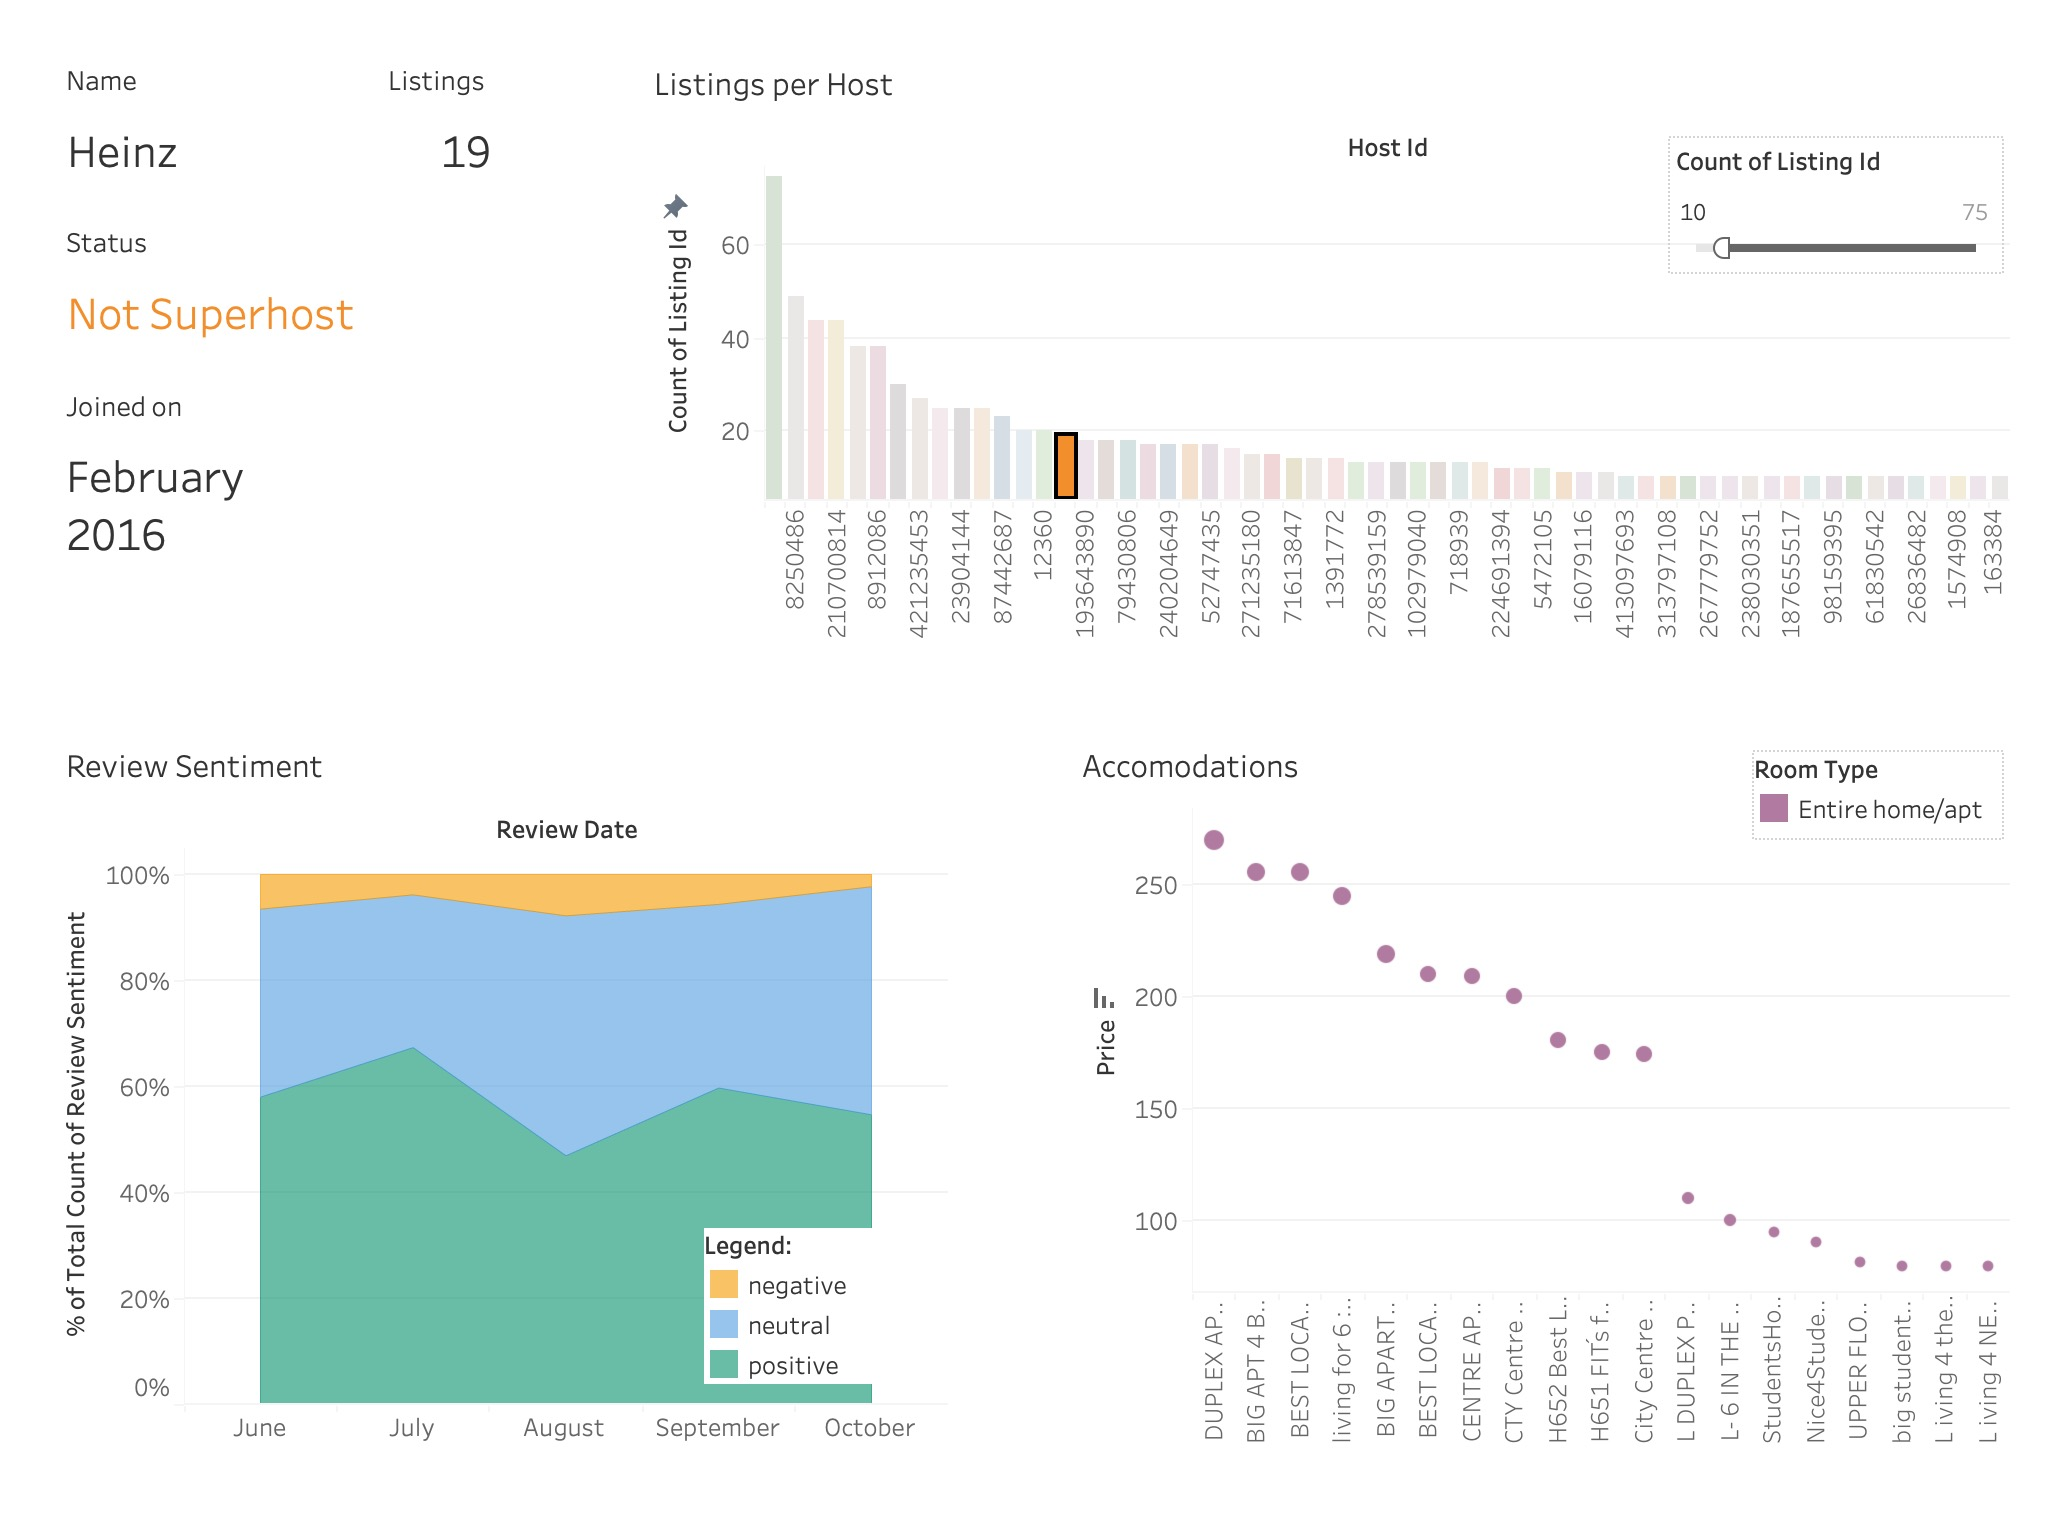

Layout of this report page (visuals, bound fields, positions):
{"tool":"tableau","page":{"name":"Host details","canvas":[1000,800],"ordinal":0},"visuals":[{"type":"blank","box":[8,8,984,47.9]},{"type":"worksheet","title":"Name","mark":"Automatic","box":[8,55.9,161,81.5]},{"type":"worksheet","title":"Nr. u Listings this host","mark":"Automatic","box":[169,55.9,81,81.5]},{"type":"blank","box":[250,55.9,52,310.7]},{"type":"worksheet","title":"Large hosts","mark":"Automatic","rows":["LISTING_ID"],"cols":["HOST_ID"],"box":[302,55.9,690,310.7]},{"type":"filter","title":"Large hosts","param":"[federated.0fy481t14suxj81aj3ia71t3bvcg].[cnt:LISTING_ID:qk]","box":[817,101,168,69]},{"type":"worksheet","title":"Superhost ?","mark":"Automatic","box":[8,137.4,242,81.5]},{"type":"worksheet","title":"Joined date","mark":"Automatic","box":[8,219,242,147.7]},{"type":"blank","box":[8,366.6,984,30.8]},{"type":"worksheet","title":"Review sent one host (mth) (2)","mark":"Area","cols":["REVIEW_DATE"],"box":[8,397.4,452.6,362.6]},{"type":"blank","box":[460.6,397.4,55.4,362.6]},{"type":"worksheet","title":"Price for host","mark":"Circle","rows":["PRICE"],"cols":["LISTING_NAME"],"box":[516,397.4,476,362.6]},{"type":"legend","title":"Price for host","param":"[federated.0fy481t14suxj81aj3ia71t3bvcg].[none:ROOM_TYPE:nk]","box":[859,408,126,45]},{"type":"legend","title":"Review sent one host (mth) (2)","param":"[federated.0fy481t14suxj81aj3ia71t3bvcg].[none:REVIEW_SENTIMENT:nk]","box":[335,647,140,78]},{"type":"blank","box":[8,760,984,32]}]}

Visuals, with their boxes on the page's 1000x800 design canvas (x1, y1, x2, y2). These are canvas units, not pixel positions in the 2072x1514 screenshot, which may show the page scaled, cropped or inside an application window:
blank: x1=8 y1=8 x2=992 y2=56
"Name" worksheet: x1=8 y1=56 x2=169 y2=137
"Nr. u Listings this host" worksheet: x1=169 y1=56 x2=250 y2=137
blank: x1=250 y1=56 x2=302 y2=367
"Large hosts" worksheet: x1=302 y1=56 x2=992 y2=367
"Large hosts" filter: x1=817 y1=101 x2=985 y2=170
"Superhost ?" worksheet: x1=8 y1=137 x2=250 y2=219
"Joined date" worksheet: x1=8 y1=219 x2=250 y2=367
blank: x1=8 y1=367 x2=992 y2=397
"Review sent one host (mth) (2)" worksheet (Area marks): x1=8 y1=397 x2=461 y2=760
blank: x1=461 y1=397 x2=516 y2=760
"Price for host" worksheet (Circle marks): x1=516 y1=397 x2=992 y2=760
"Price for host" legend: x1=859 y1=408 x2=985 y2=453
"Review sent one host (mth) (2)" legend: x1=335 y1=647 x2=475 y2=725
blank: x1=8 y1=760 x2=992 y2=792
